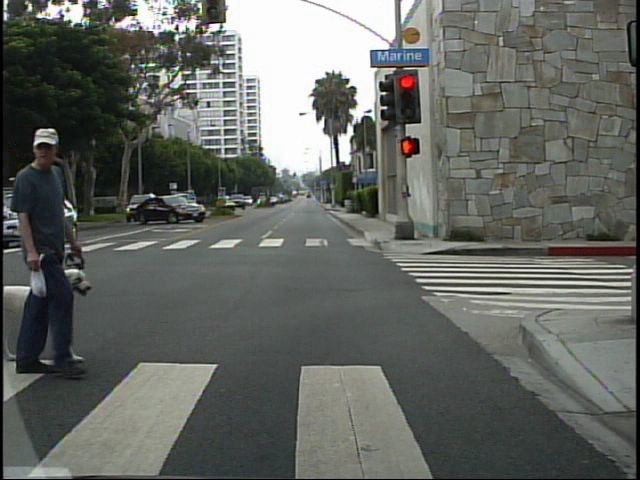person: (8, 114, 100, 381)
